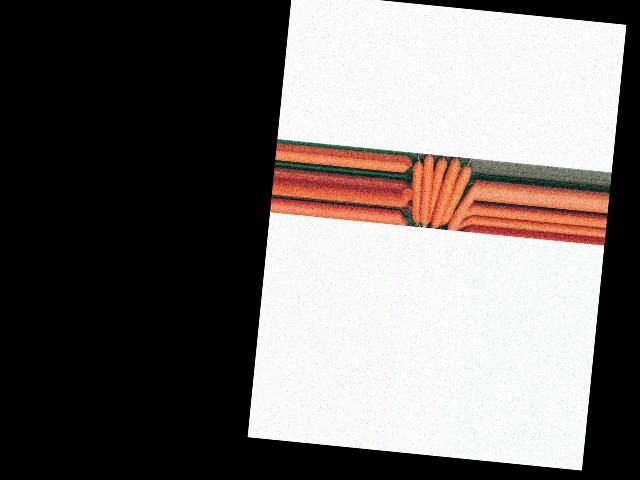carrot: (429, 153, 458, 229)
